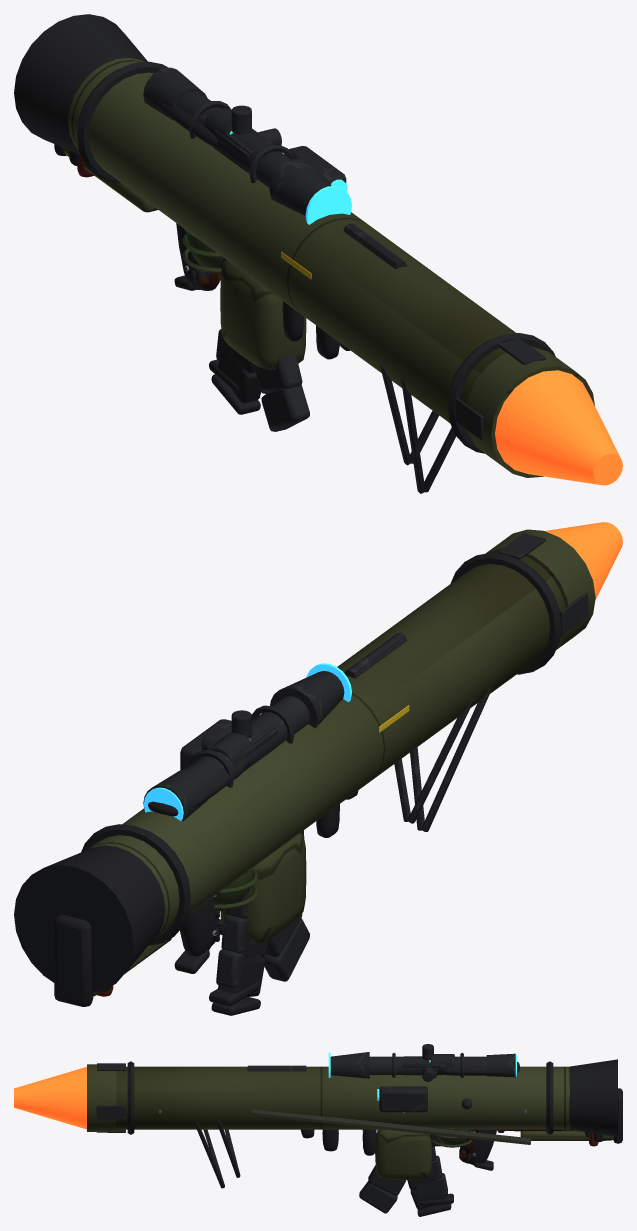
Rendered from weapons.glb.
3 views of the same model, one above another, from view 1: azimuth 30°, elevation 25°; view 2: azimuth 150°, elevation 25°; view 3: azimuth 270°, elevation 25° (orthographic). The views are drawn at different scales.
Visible parts, largest first — view 1: launcher_olive, launcher_gpoly, rl_tip, sniper_gun, box, lmg_gun, goldrifle_gun, rifle_gpoly, launcher_gun, sniper_lens, grenade_gren, smg_gpoly (+1 smaller); view 2: launcher_olive, launcher_gpoly, sniper_gun, box, sniper_gpoly, lmg_gun, rl_tip, launcher_gun, smg_gun, rifle_gpoly, goldrifle_gun, sniper_lens (+3 smaller); view 3: launcher_olive, launcher_gpoly, sniper_gun, rl_tip, box, launcher_gun, sling, lmg_gun, goldrifle_gun, rifle_gpoly, smg_gun, sniper_olive (+4 smaller).
Part boxes in pixels (x1=…): launcher_olive: x1=68, y1=57, x2=594, y2=477; launcher_gpoly: x1=14, y1=14, x2=555, y2=453; rl_tip: x1=495, y1=370, x2=622, y2=485; sniper_gun: x1=143, y1=67, x2=438, y2=465; box: x1=220, y1=259, x2=306, y2=369; lmg_gun: x1=204, y1=108, x2=456, y2=493; goldrifle_gun: x1=254, y1=353, x2=309, y2=431; rifle_gpoly: x1=189, y1=251, x2=350, y2=414; launcher_gun: x1=288, y1=146, x2=545, y2=440; sniper_lens: x1=305, y1=186, x2=351, y2=224; grenade_gren: x1=182, y1=229, x2=223, y2=272; smg_gpoly: x1=82, y1=159, x2=303, y2=393; launcher_olive: x1=87, y1=529, x2=595, y2=940; launcher_gpoly: x1=14, y1=553, x2=561, y2=992; sniper_gun: x1=143, y1=671, x2=473, y2=823; box: x1=220, y1=833, x2=306, y2=943; sniper_gpoly: x1=54, y1=888, x2=249, y2=1006; lmg_gun: x1=205, y1=632, x2=494, y2=831; rl_tip: x1=545, y1=522, x2=622, y2=599; launcher_gun: x1=180, y1=533, x2=588, y2=770; smg_gun: x1=216, y1=892, x2=261, y2=988; rifle_gpoly: x1=209, y1=790, x2=358, y2=1015; goldrifle_gun: x1=262, y1=913, x2=309, y2=981; sniper_lens: x1=143, y1=663, x2=351, y2=820; launcher_olive: x1=87, y1=1064, x2=569, y2=1131; launcher_gpoly: x1=127, y1=1059, x2=617, y2=1159; sniper_gun: x1=216, y1=1044, x2=515, y2=1177; rl_tip: x1=14, y1=1067, x2=86, y2=1129; box: x1=375, y1=1129, x2=431, y2=1179; launcher_gun: x1=96, y1=1063, x2=427, y2=1132; sling: x1=252, y1=1109, x2=530, y2=1144; lmg_gun: x1=193, y1=1054, x2=454, y2=1188; goldrifle_gun: x1=359, y1=1075, x2=436, y2=1213; rifle_gpoly: x1=300, y1=1129, x2=475, y2=1216; smg_gun: x1=413, y1=1071, x2=447, y2=1198; sniper_olive: x1=520, y1=1130, x2=613, y2=1140.
Bounding box in the file's own units: 0.1702 × 0.3817 × 1.25.
22 materials, 7 textured.
